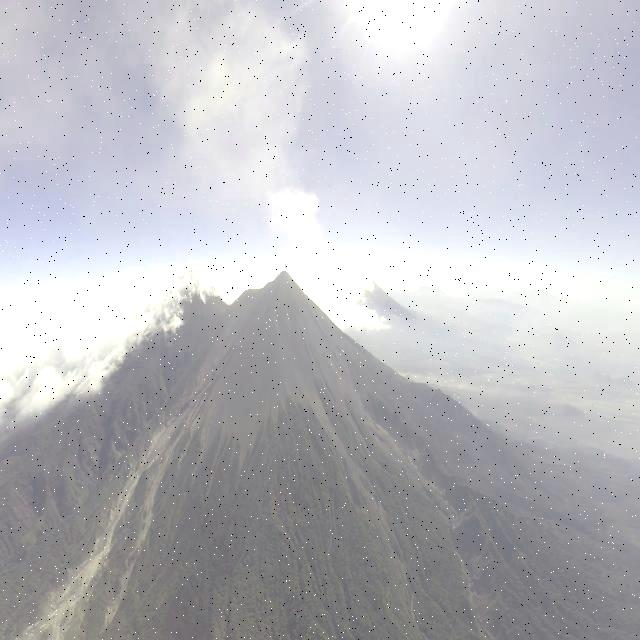Plume: (280, 248, 290, 274)
Summit: (264, 269, 304, 291)
